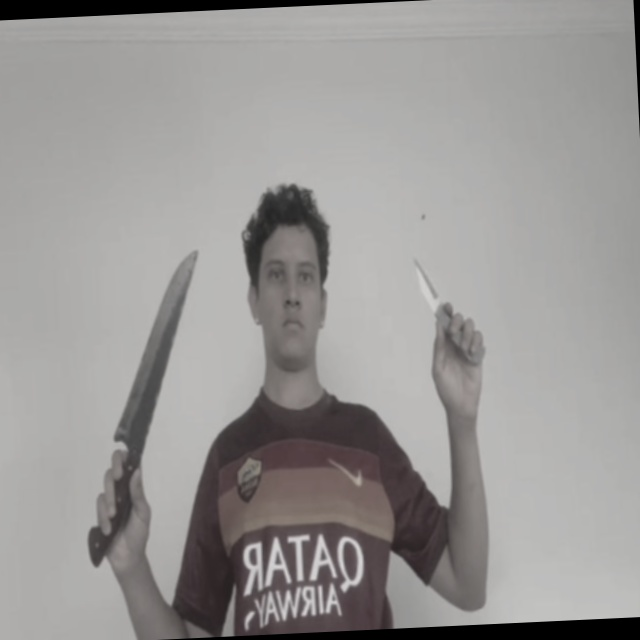Sharp-Object: (104, 247, 208, 445), (415, 254, 441, 309)
